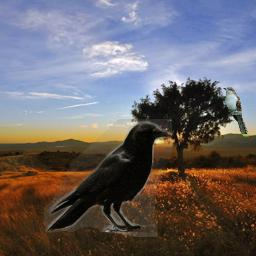Crow: (44, 119, 172, 237)
Cuckoo: (223, 87, 249, 137)
